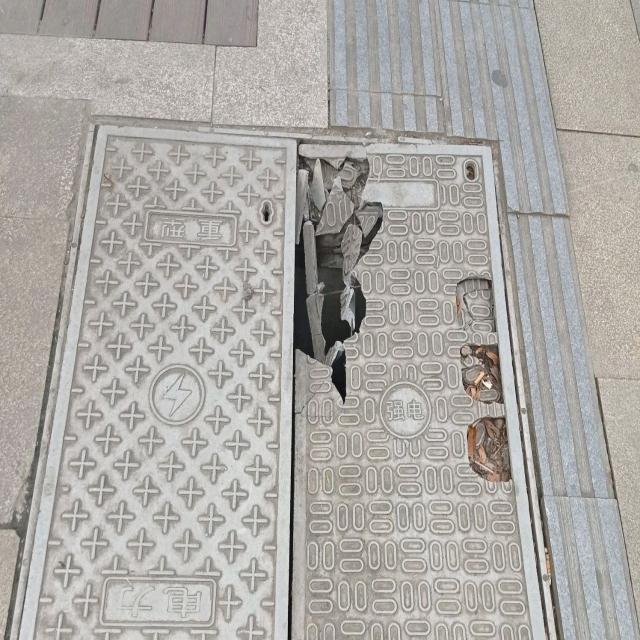manhole: (10, 125, 555, 639)
